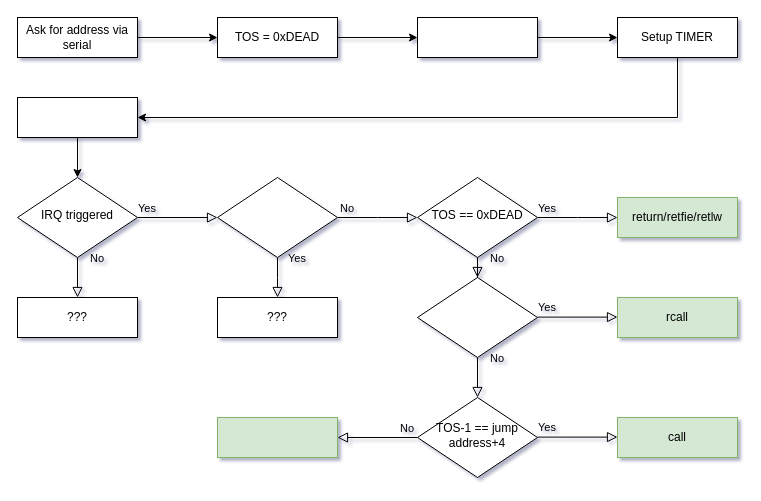
The diagram is 761 pixels wide and 501 high, and some of its shapes have lost their labels. The box of each missing label's shape, as (x1, y1, x2, y2) in pixels:
Enable IRQs: (416, 16, 538, 58)
goto/bra: (216, 416, 338, 458)
Jump to address: (16, 96, 138, 138)
TOS == jump address + 2: (216, 176, 338, 258)
TOS-1 == jump address+2: (416, 276, 538, 358)
